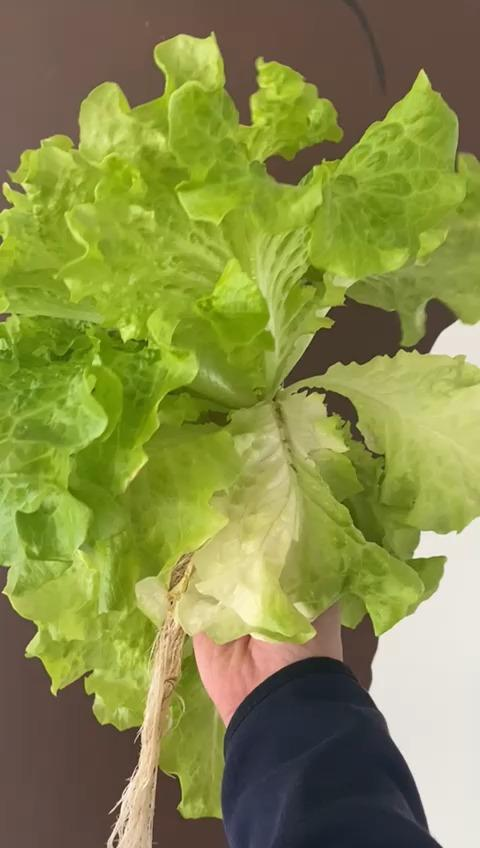Healthy: (0, 32, 480, 821)
